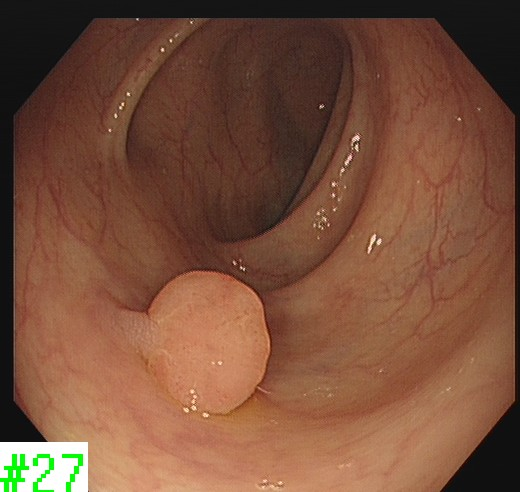adenoma: (137, 267, 271, 417)
